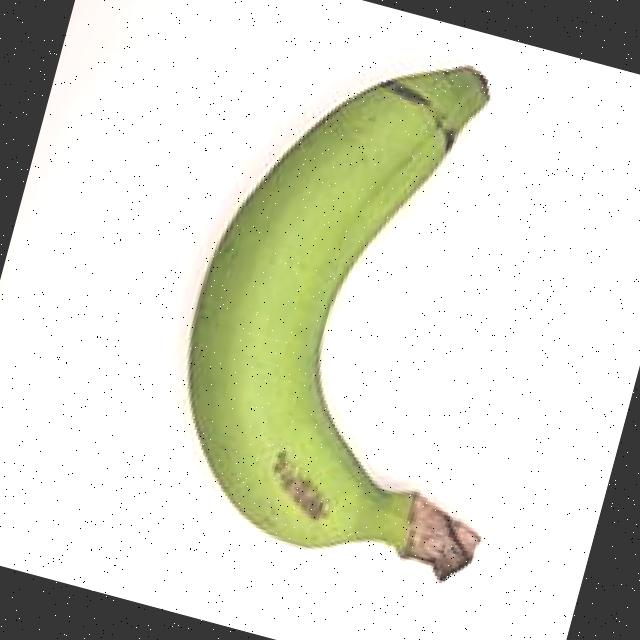Raw: (105, 0, 630, 629)
